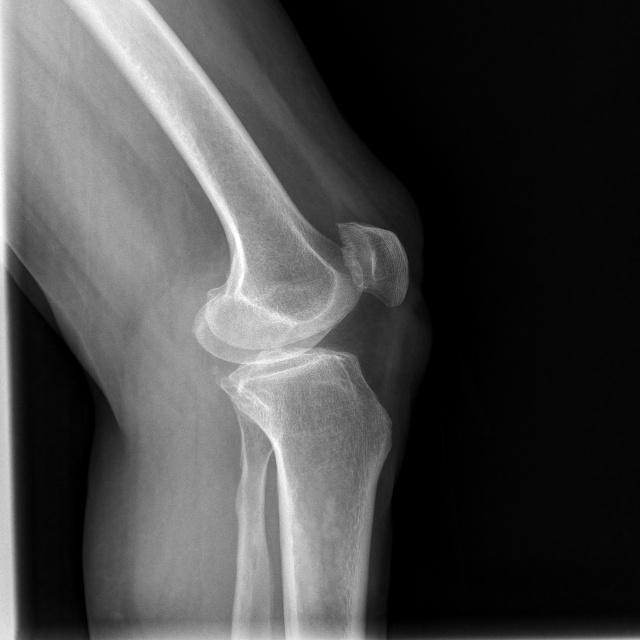Knee: (190, 219, 409, 428)
